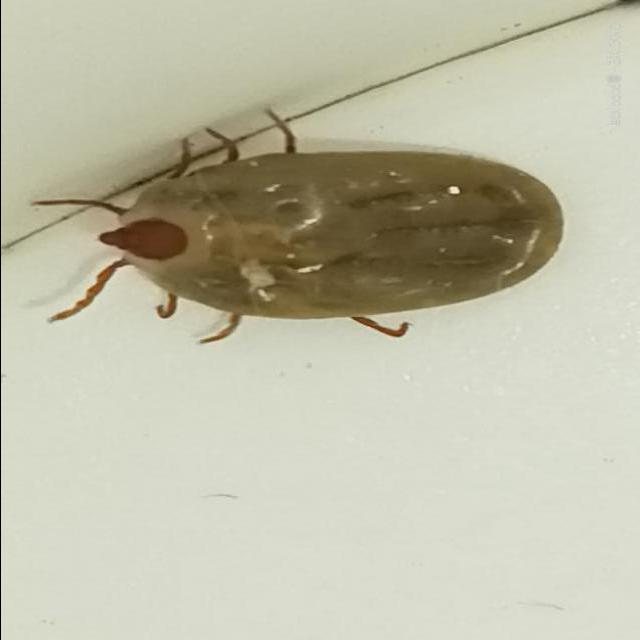Rhipicephalus Sanguineus-F-Fed: (32, 107, 565, 344)
